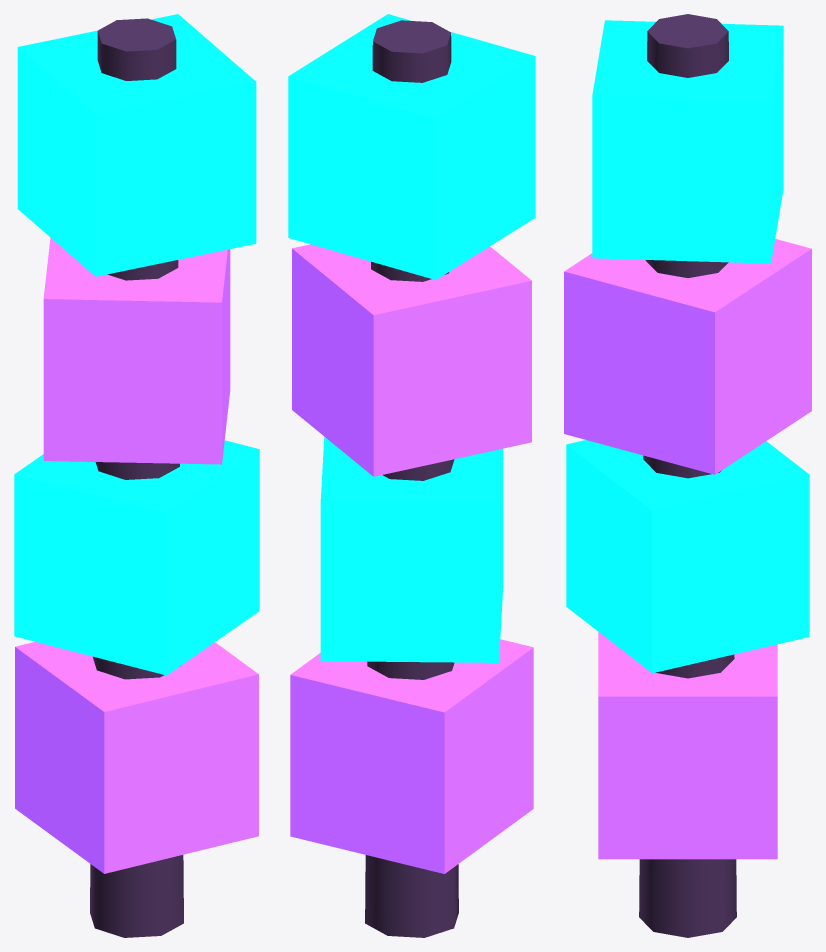
Rendered from socials-totem.glb.
3 views of the same model, side by side, from view 1: azimuth 30°, elevation 25°; view 2: azimuth 150°, elevation 25°; view 3: azimuth 270°, elevation 25° (orthographic).
Visible parts, largest first — view 1: cube_3, cube_0, cube_1, cube_2, pole; view 2: cube_3, cube_2, cube_0, cube_1, pole; view 3: cube_1, cube_2, cube_3, cube_0, pole.
Boxes of the visible parts, <box> form: cube_3: <box>17,14,256,276</box>; cube_0: <box>15,641,258,873</box>; cube_1: <box>14,440,259,675</box>; cube_2: <box>43,237,230,464</box>; pole: <box>90,18,183,937</box>; cube_3: <box>288,14,535,279</box>; cube_2: <box>292,244,531,476</box>; cube_0: <box>290,639,533,873</box>; cube_1: <box>320,437,503,662</box>; pole: <box>365,20,458,937</box>; cube_1: <box>566,440,809,673</box>; cube_2: <box>564,239,811,474</box>; cube_3: <box>592,20,783,263</box>; cube_0: <box>598,632,777,859</box>; pole: <box>639,14,736,937</box>.
Size of the model in its own units: 1.52 by 6 by 1.52.
